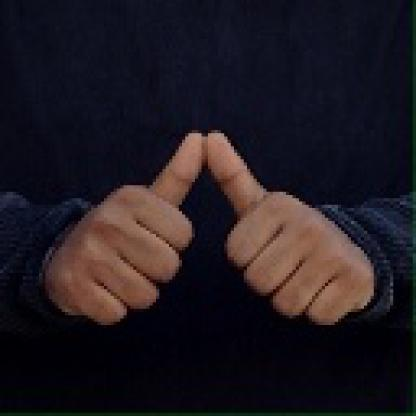A: (50, 127, 368, 340)
